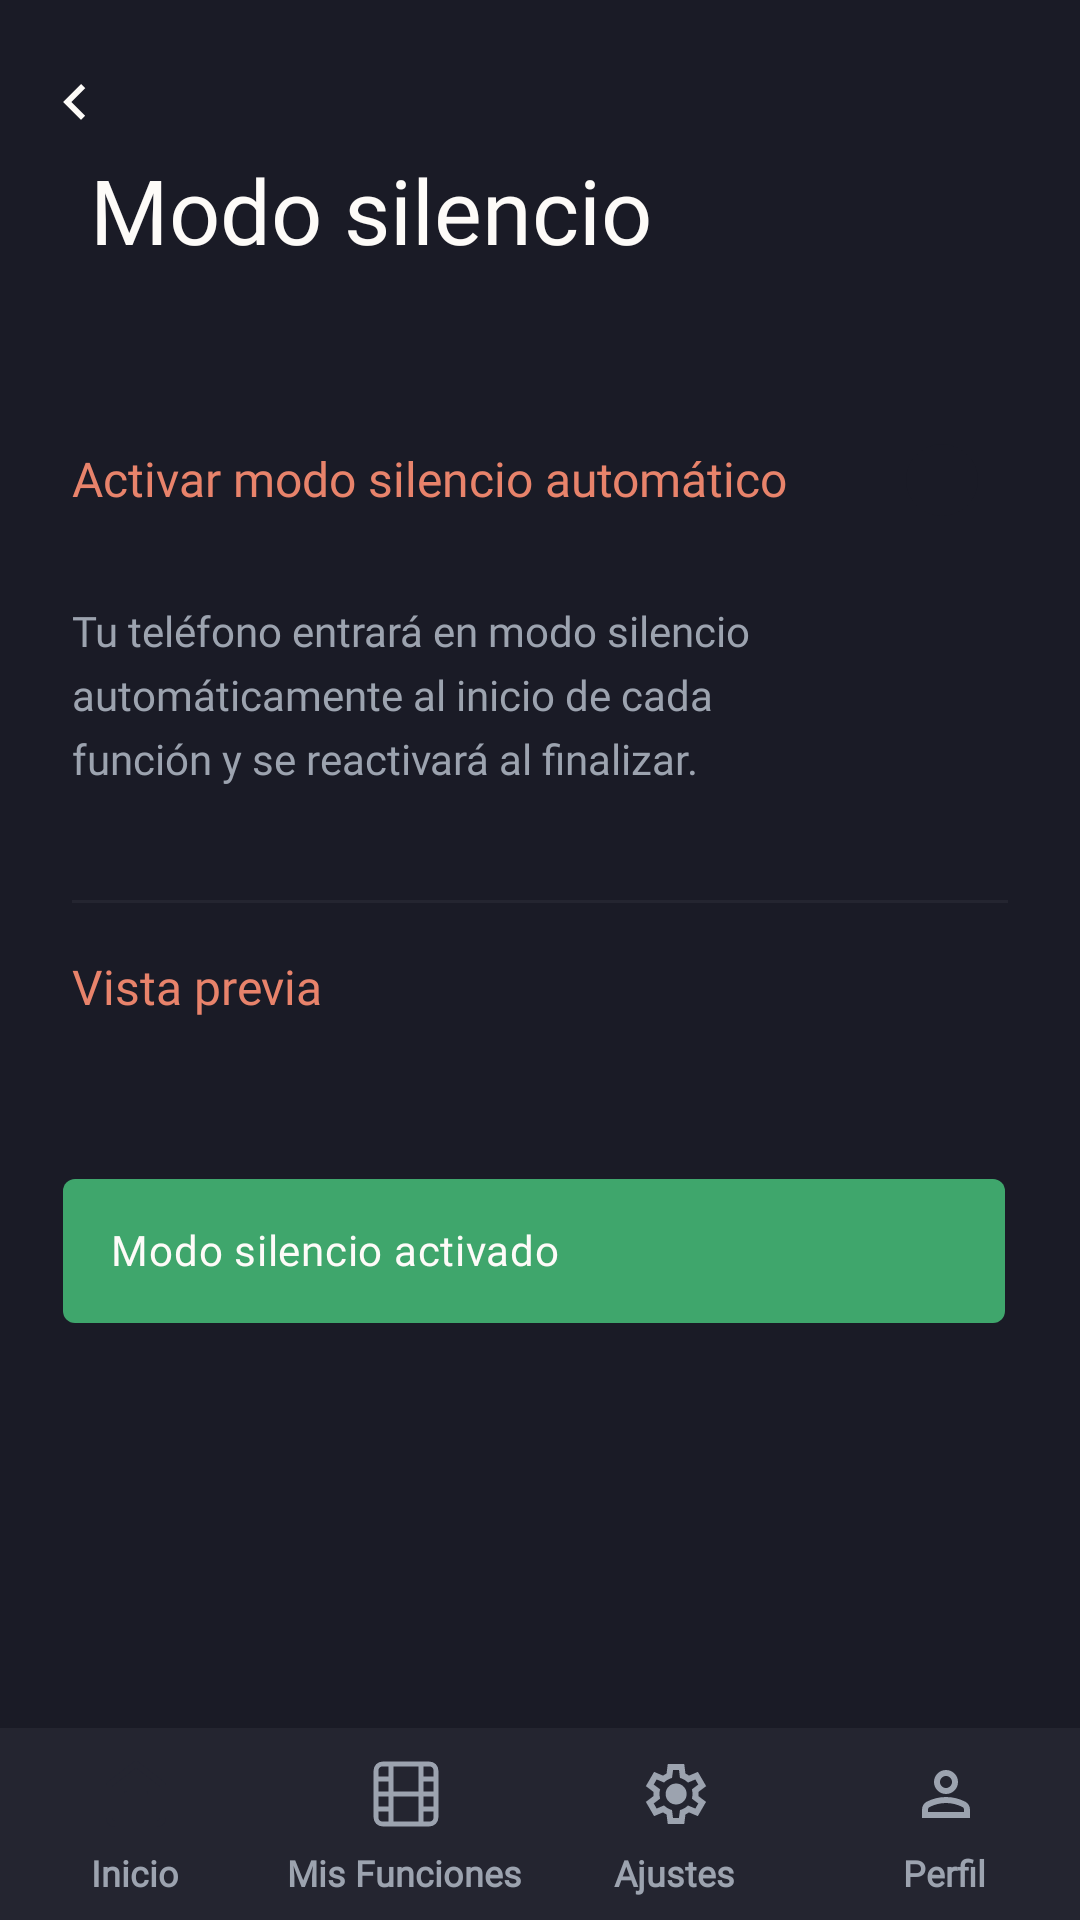

Icons on this 1080w x 1920h Android screen, each with its box as (x1,y1,x2,y2):
Volver: (63,84,85,120)
